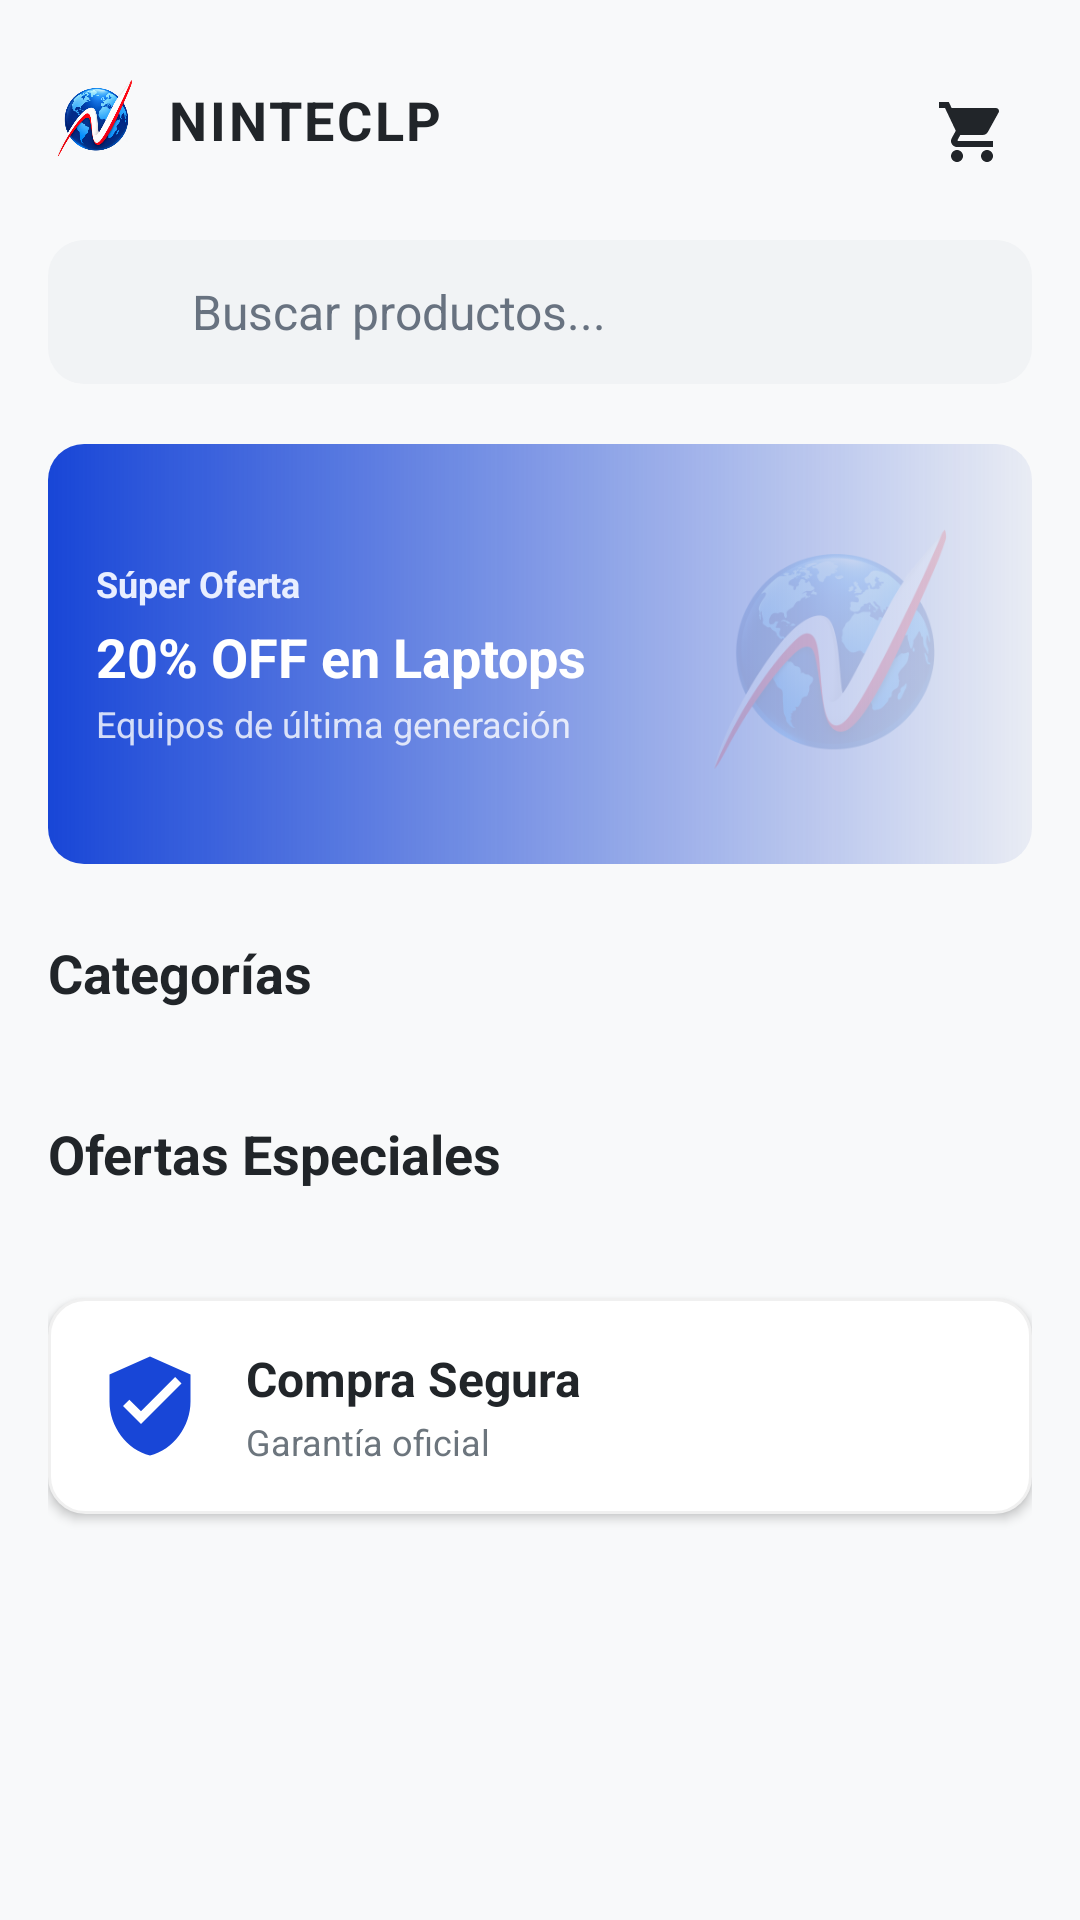

Named icons in this screenshot (1080w x 1920h) and their bounding boxes, (x1=x1, y1=y1, x2=x2, y2=y2):
Secure Purchase Icon: (x1=109, y1=1356, x2=191, y2=1456)
Shopping Cart Button: (x1=939, y1=102, x2=999, y2=162)
